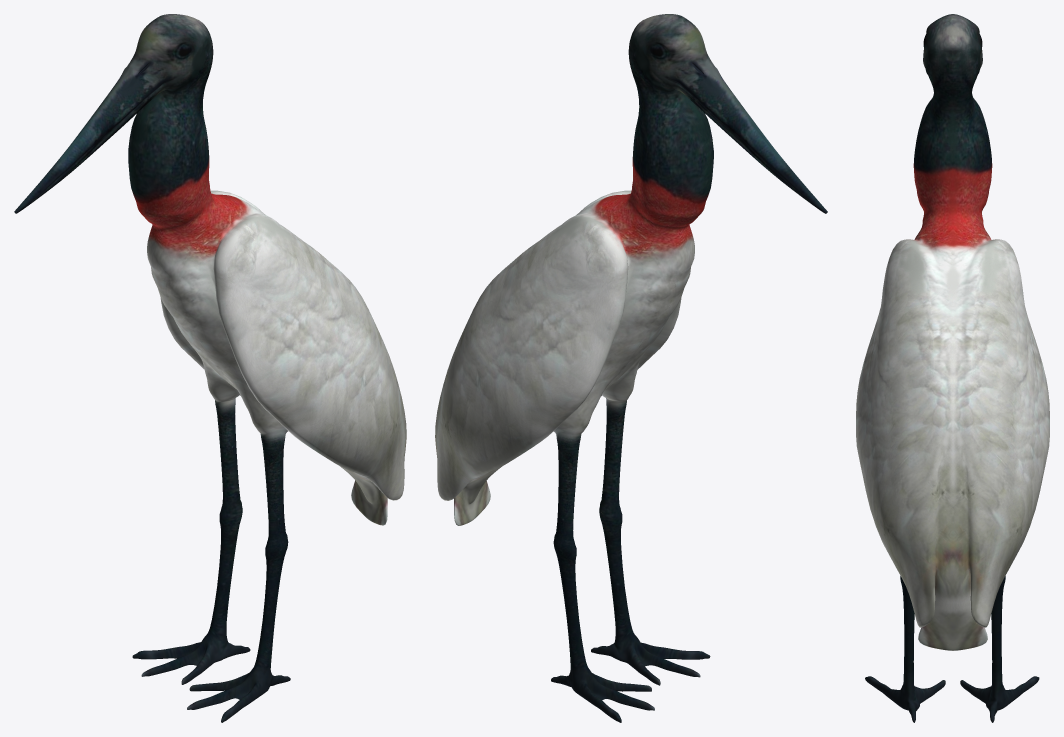
The model's file is jabiru.fbx.
The picture shows the model from 3 angles, left to right: view 1: azimuth 30°, elevation 25°; view 2: azimuth 150°, elevation 25°; view 3: azimuth 270°, elevation 25°; orthographic projection. The views are drawn at different scales.
Parts seen in each view (by area): view 1: 12257_Bird_V2_L2; view 2: 12257_Bird_V2_L2; view 3: 12257_Bird_V2_L2.
Boxes of the visible parts, x1,y1,x2,y2 form: 12257_Bird_V2_L2: (14, 14, 406, 722); 12257_Bird_V2_L2: (435, 14, 827, 722); 12257_Bird_V2_L2: (856, 14, 1049, 722).
Size of the model in its own units: 7338 by 12485 by 3319.
Materials: 1 (1 with a texture image).
